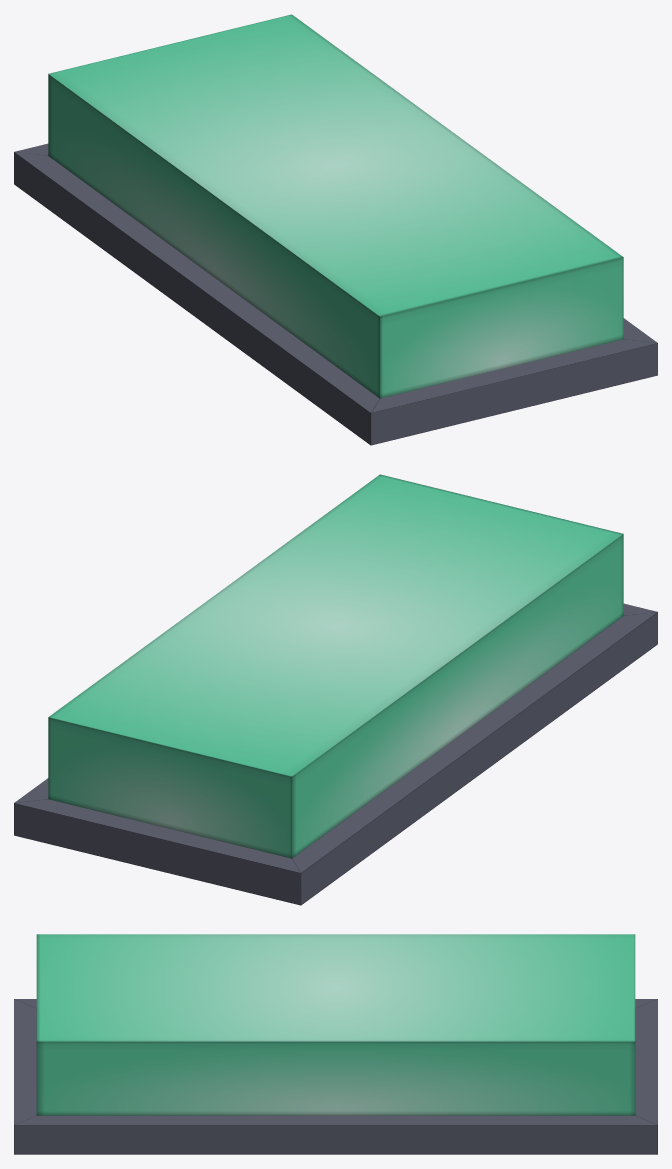
File: Button_Rectangular_Green.FBX
The picture shows the model from 3 angles, top to bottom: view 1: azimuth 30°, elevation 25°; view 2: azimuth 150°, elevation 25°; view 3: azimuth 270°, elevation 25°; orthographic projection. The views are drawn at different scales.
Parts seen in each view (by area): view 1: Push_Me, Button_Rectangular_Green; view 2: Push_Me, Button_Rectangular_Green; view 3: Push_Me, Button_Rectangular_Green.
Boxes of the visible parts, <box> form: Push_Me: <box>48,14,623,398</box>; Button_Rectangular_Green: <box>14,143,657,445</box>; Push_Me: <box>48,474,623,858</box>; Button_Rectangular_Green: <box>14,603,657,905</box>; Push_Me: <box>36,934,635,1115</box>; Button_Rectangular_Green: <box>14,999,657,1154</box>.
Bounding box in the file's own units: 0.0922 × 0.0351 × 0.1985.
